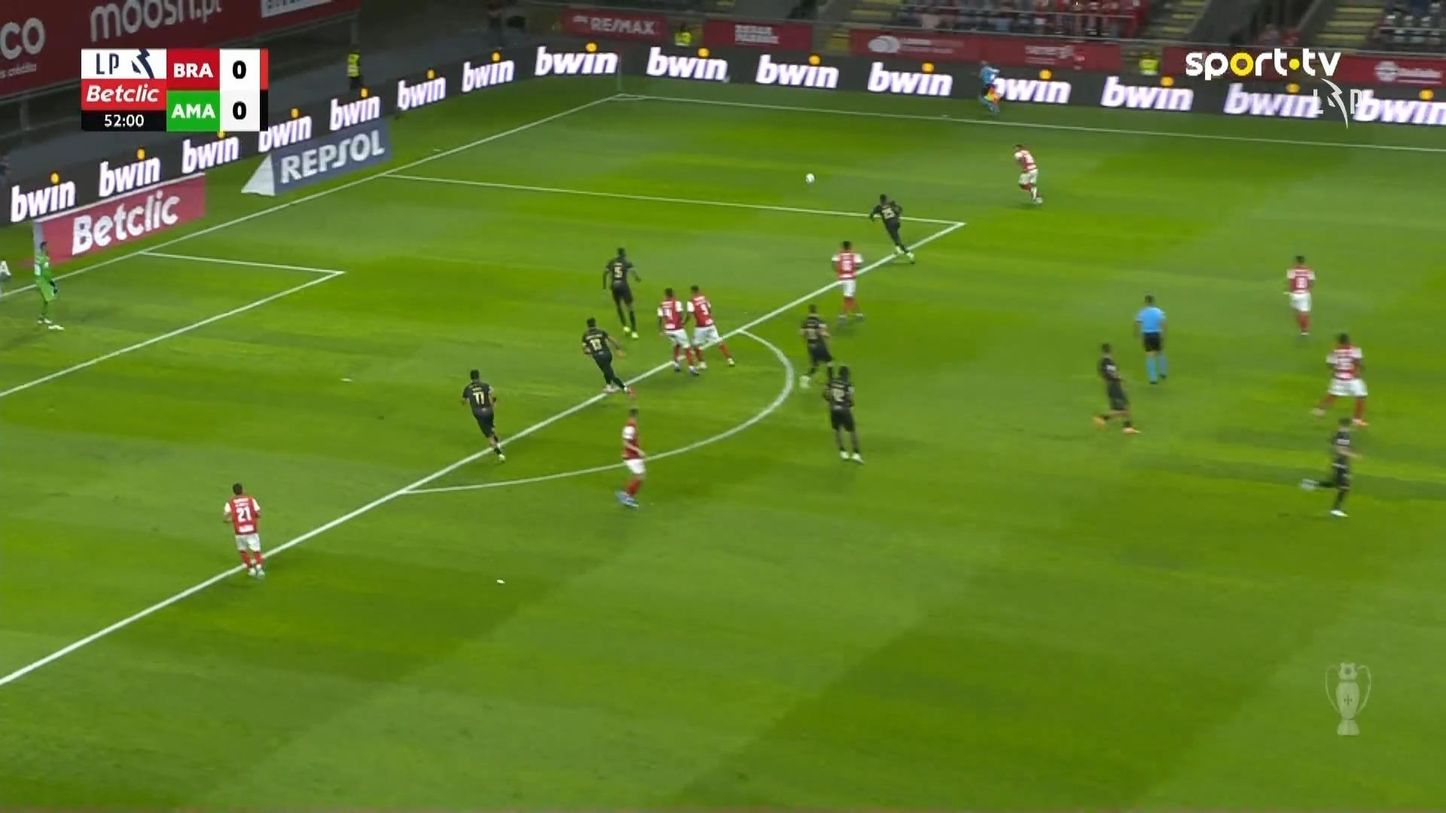ball: (804, 172, 814, 184)
goalkeeper: (32, 239, 59, 324)
player: (1310, 330, 1369, 426), (1091, 341, 1139, 434), (821, 363, 865, 464), (459, 368, 506, 462), (580, 316, 634, 397), (684, 284, 736, 368), (222, 481, 265, 579), (655, 286, 700, 375), (601, 245, 641, 339), (1326, 416, 1361, 516), (615, 407, 647, 508), (869, 193, 915, 263), (797, 302, 834, 388), (830, 239, 865, 322), (1283, 254, 1316, 336), (1013, 142, 1043, 205)
referee: (1133, 293, 1168, 385), (976, 59, 1002, 114)
